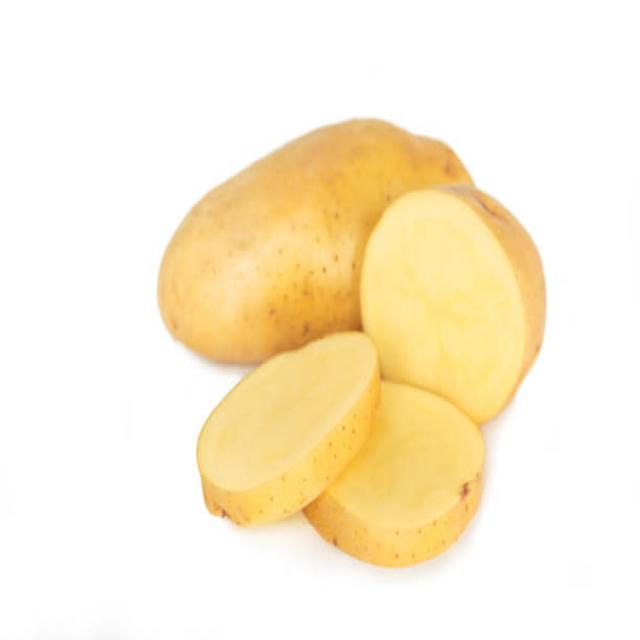Potato: (151, 123, 365, 338), (382, 180, 548, 413), (195, 331, 377, 523)
